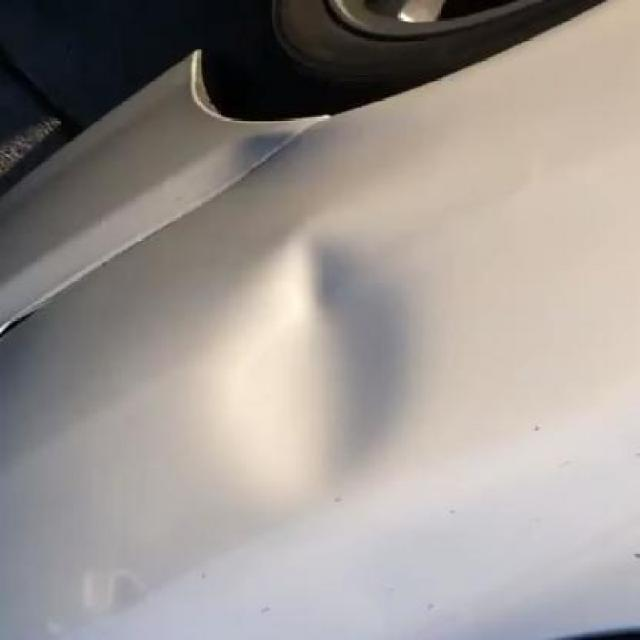dent: (228, 234, 398, 491)
